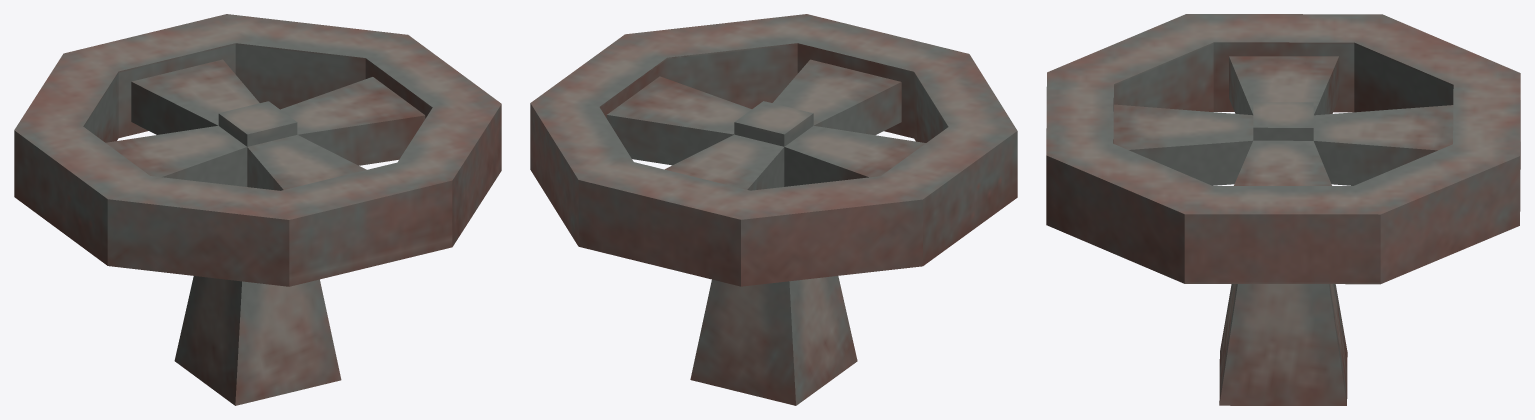
File: Wheel.fbx
3 renders of one model, left to right at view 1: azimuth 30°, elevation 25°; view 2: azimuth 150°, elevation 25°; view 3: azimuth 270°, elevation 25°, orthographic. The views are drawn at different scales.
Parts seen in each view (by area): view 1: Cylinder; view 2: Cylinder; view 3: Cylinder.
Boxes of the visible parts, bbox=[...] form: Cylinder: bbox=[14, 14, 501, 405]; Cylinder: bbox=[530, 14, 1017, 405]; Cylinder: bbox=[1046, 14, 1520, 405].
Size of the model in its own units: 185 by 114 by 185.
